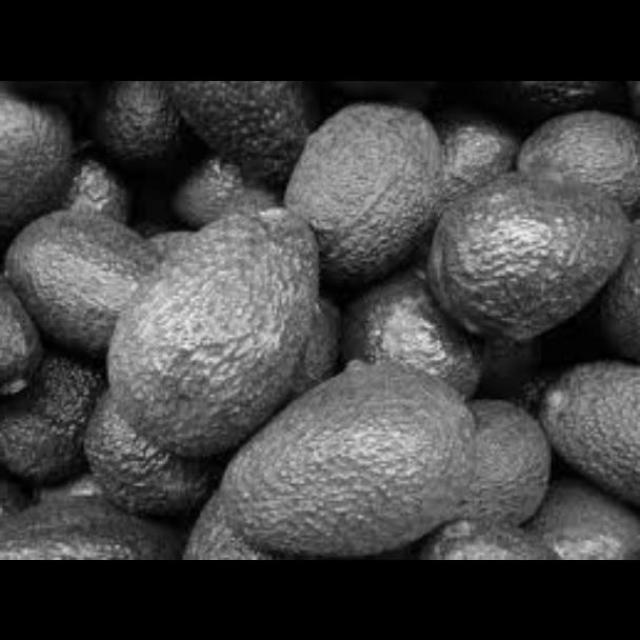bo: (110, 171, 347, 444), (173, 357, 486, 546), (402, 165, 622, 332), (296, 99, 440, 282), (14, 210, 165, 342), (1, 343, 106, 503), (545, 338, 640, 509), (507, 94, 640, 197), (0, 500, 166, 559), (1, 85, 73, 212), (79, 80, 193, 156), (191, 80, 289, 162), (435, 104, 506, 214)
